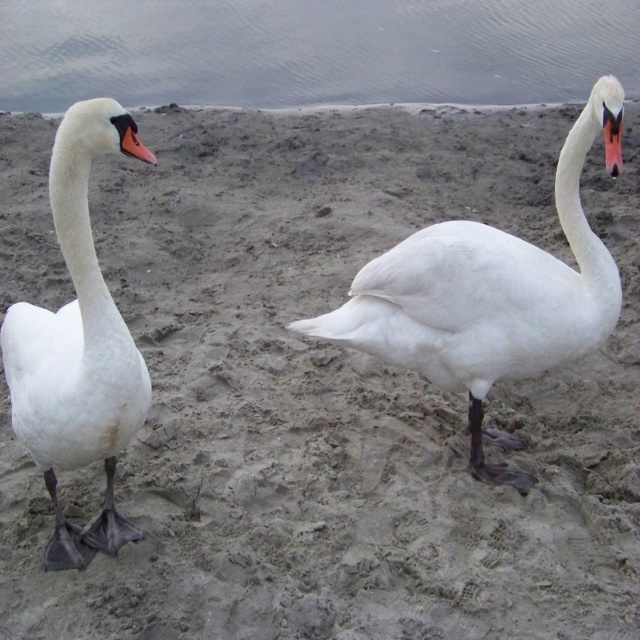Goose: (285, 71, 628, 477), (0, 90, 158, 573)
